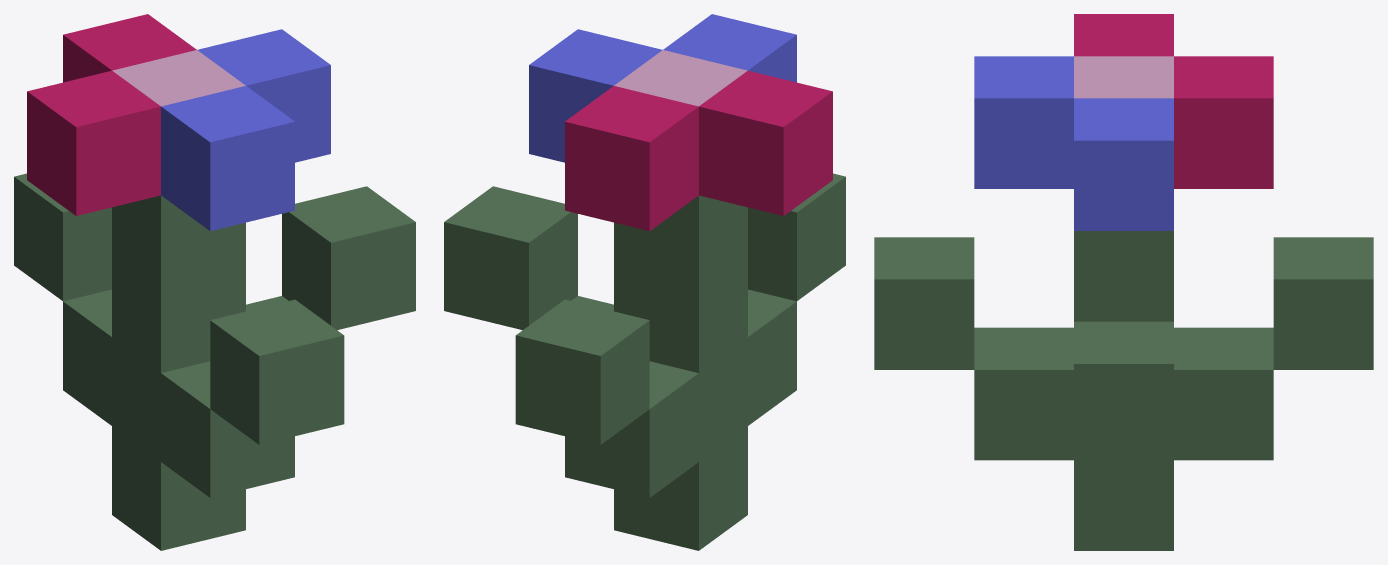
The model's file is start_end-15.obj.
The picture shows the model from 3 angles, left to right: view 1: azimuth 30°, elevation 25°; view 2: azimuth 150°, elevation 25°; view 3: azimuth 270°, elevation 25°; orthographic projection.
Size of the model in its own units: 0.4 by 0.5 by 0.5.
1 material, 1 textured.
